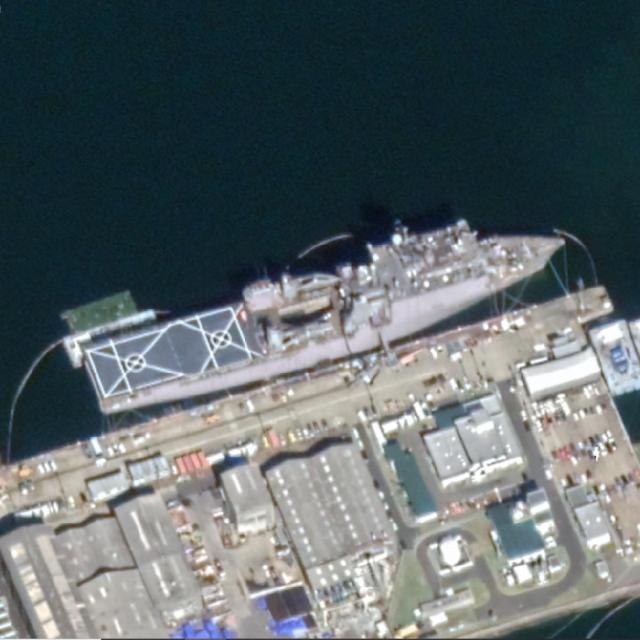Landing: (73, 176, 581, 428)
